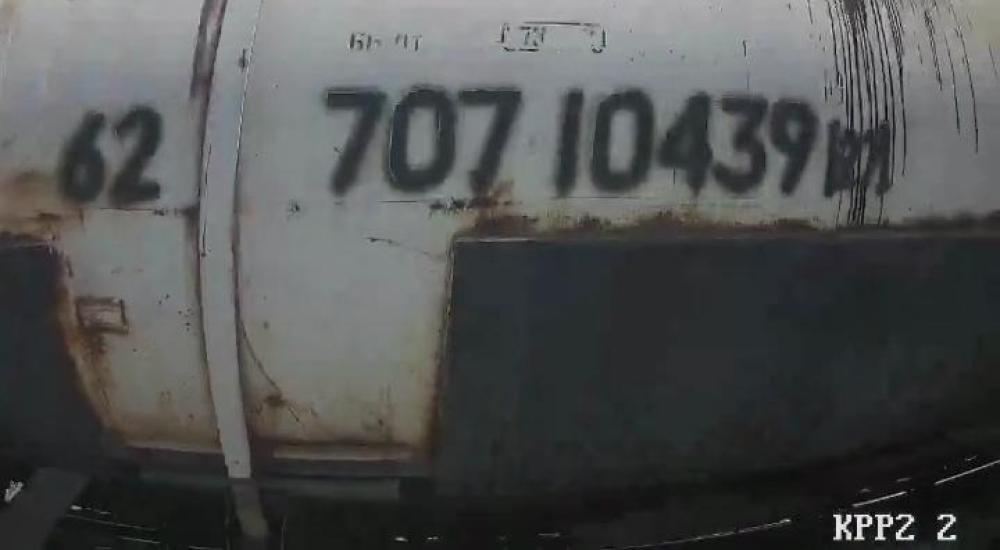Wagon-number: (321, 79, 823, 202)
